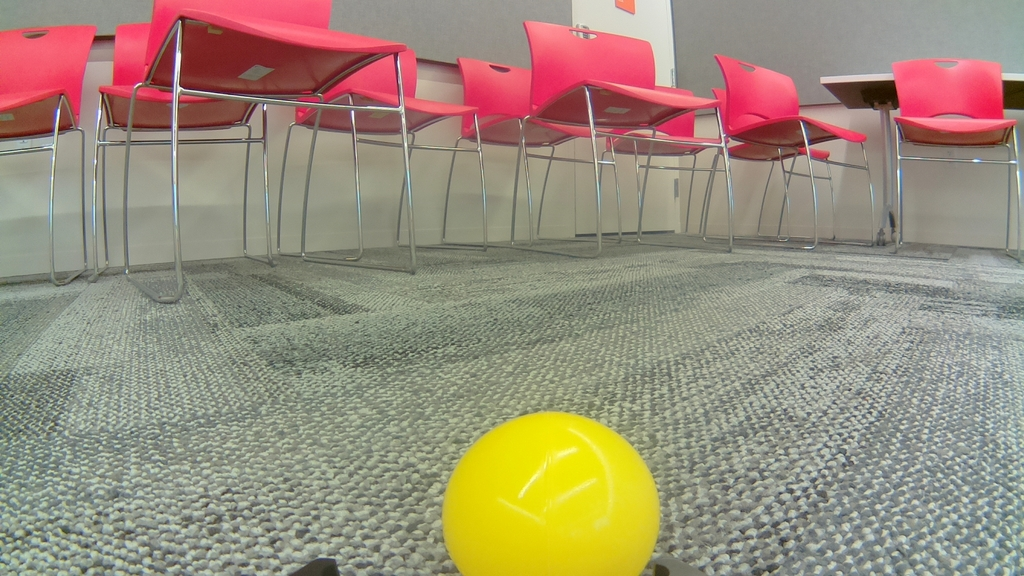ball: (444, 411, 661, 576)
